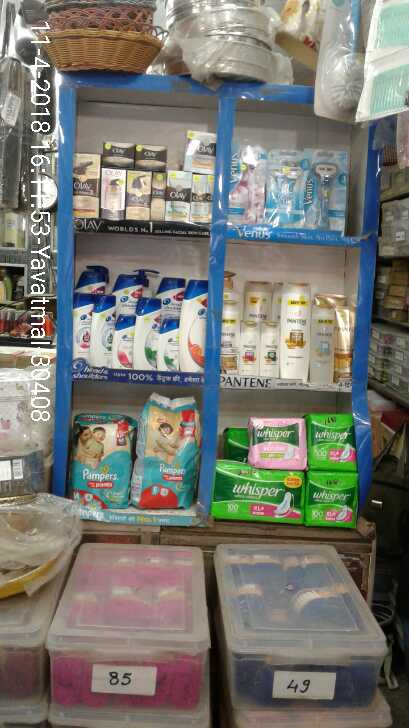venus: (306, 149, 348, 230), (269, 149, 306, 230), (228, 145, 268, 219)
